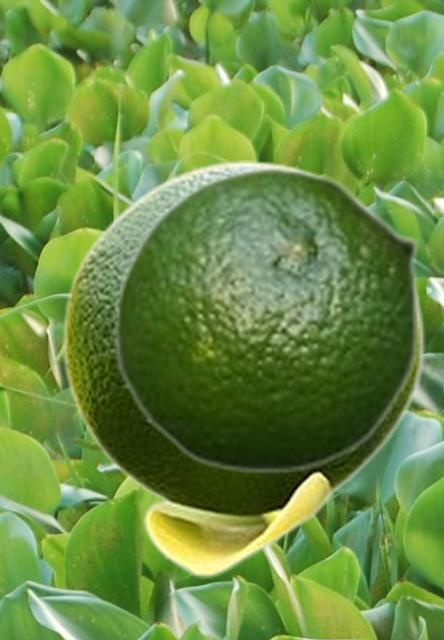calamansi: (62, 160, 424, 577), (113, 166, 421, 474)
